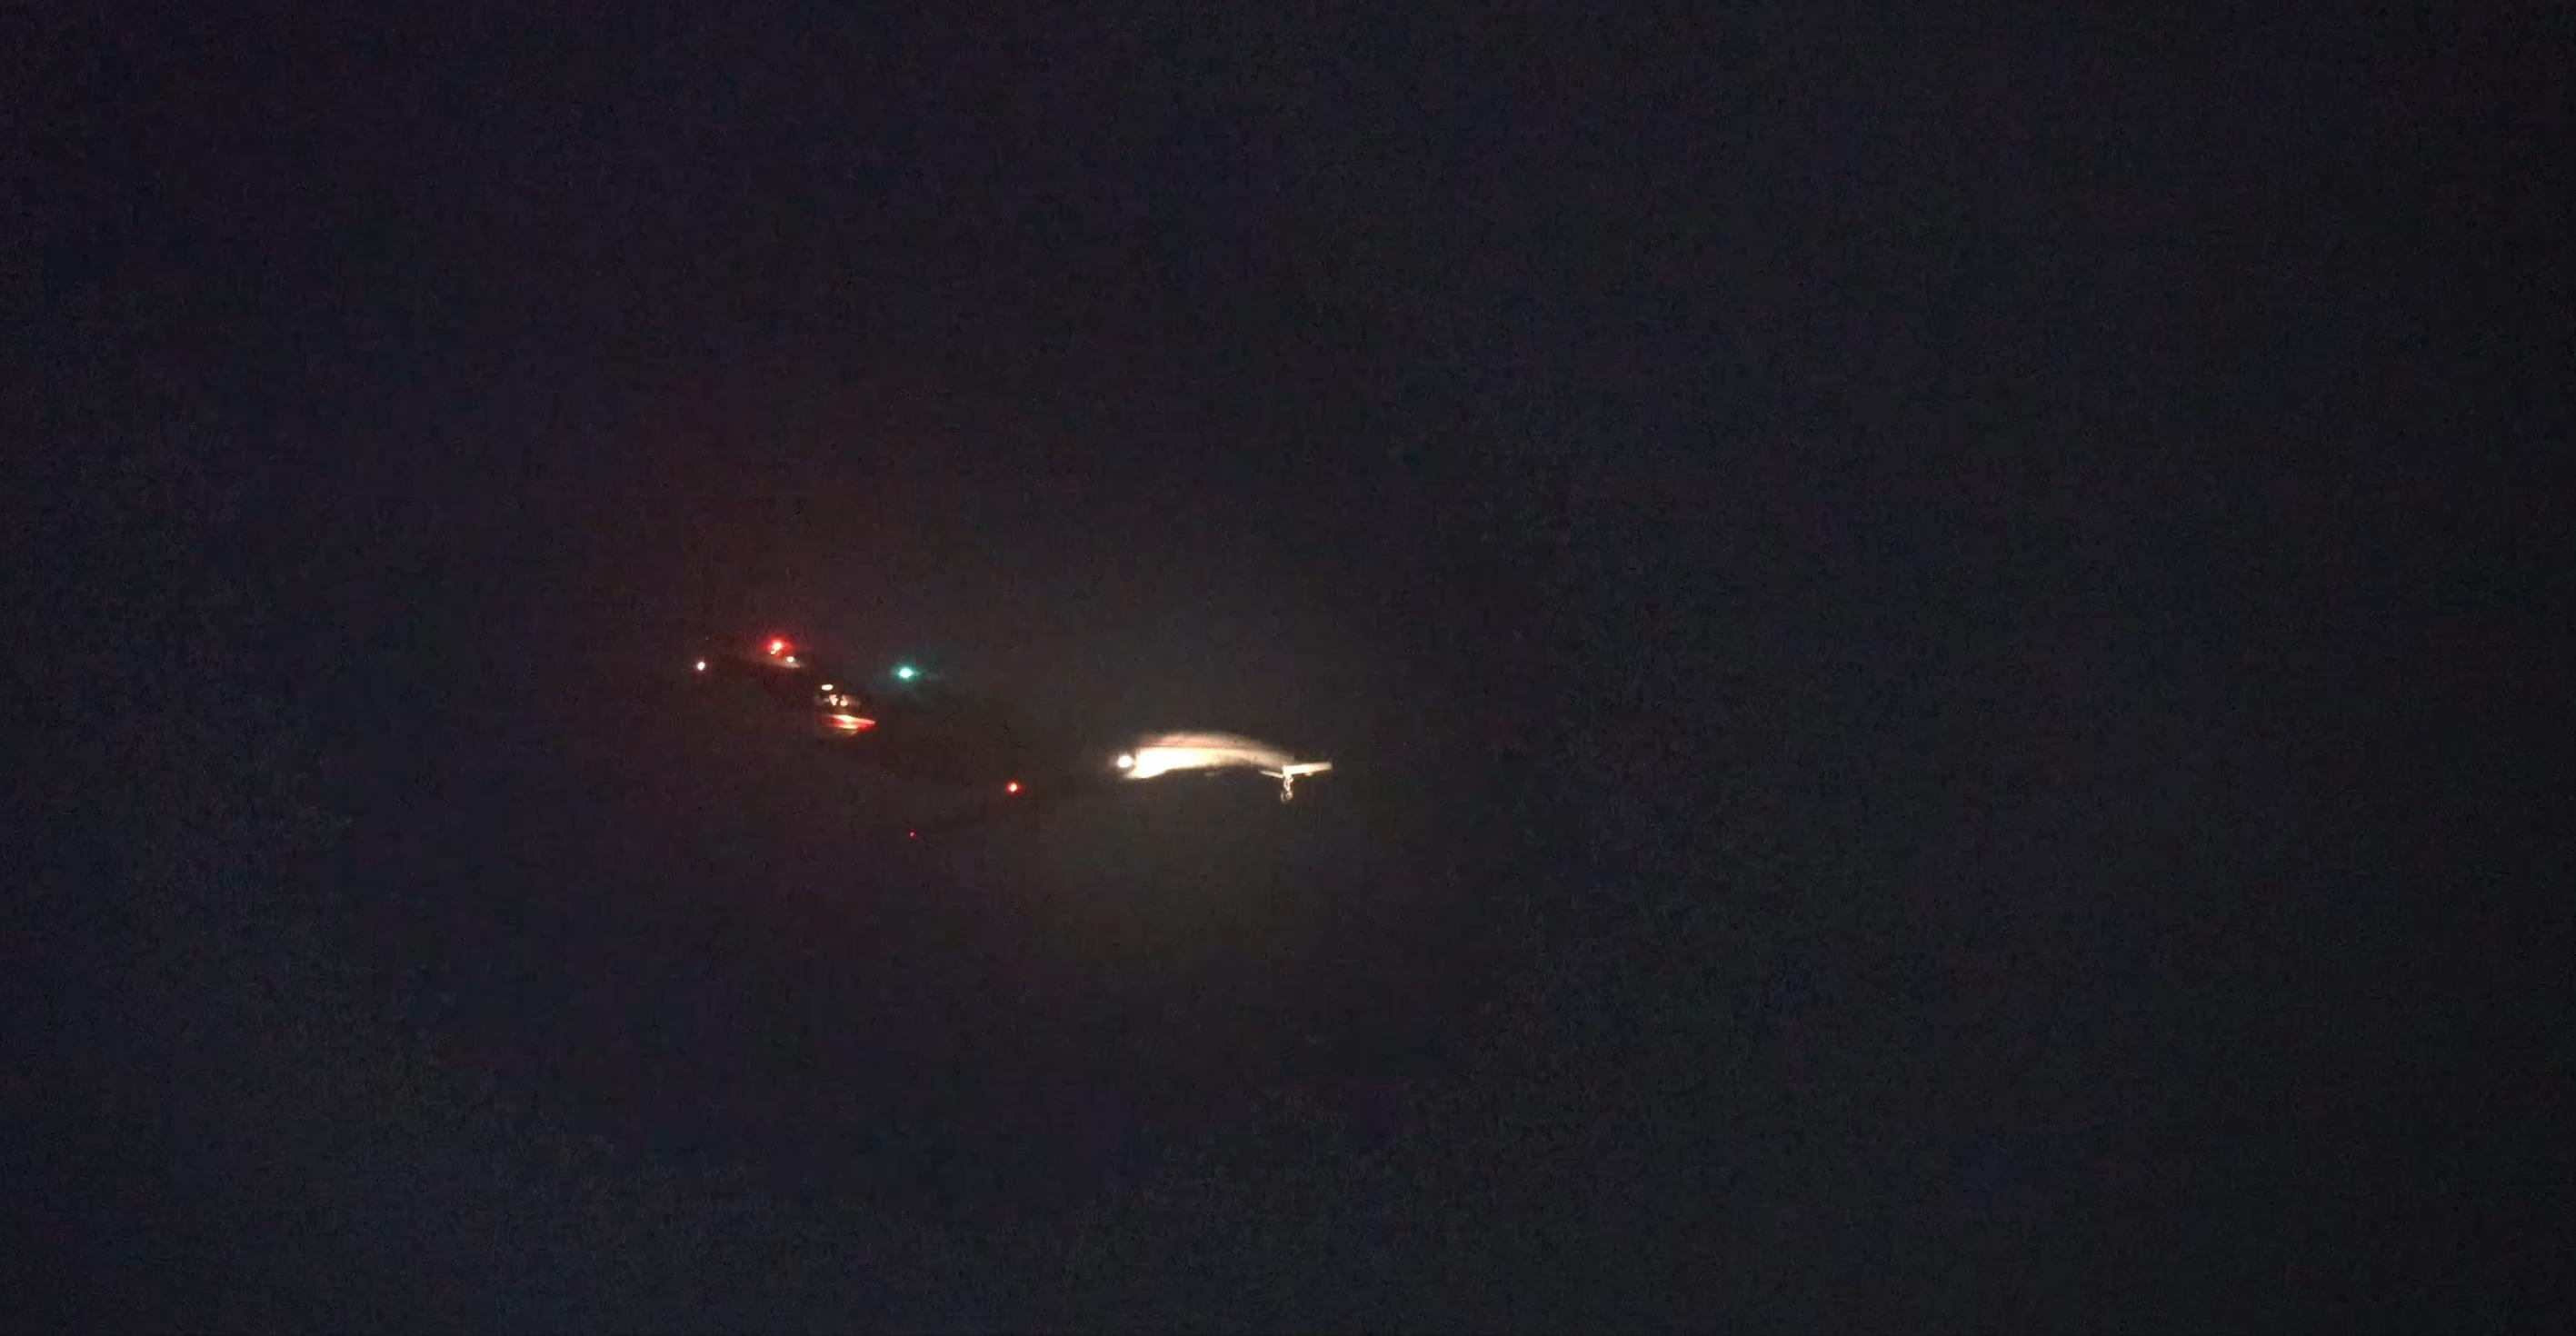Plane: (739, 595, 1286, 864)
